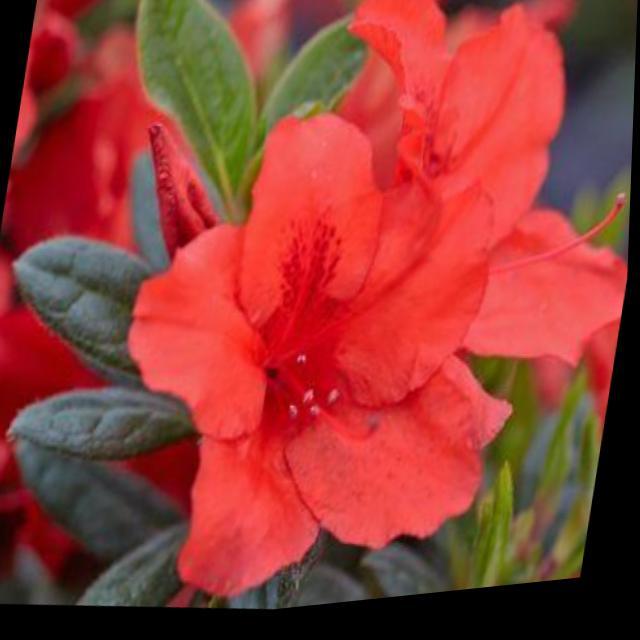Flower: (80, 77, 547, 618)
